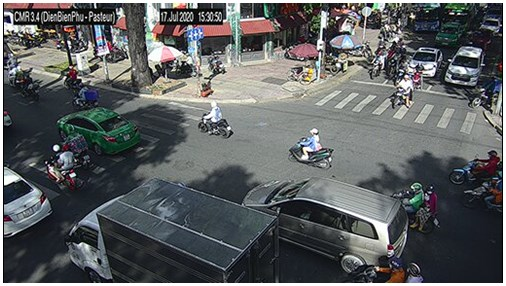xe_buyt: (443, 3, 481, 26), (413, 5, 442, 32)
xe_hoi: (242, 177, 408, 273), (57, 107, 141, 155), (4, 165, 53, 242), (444, 45, 485, 88), (411, 46, 444, 78), (436, 22, 463, 46), (472, 28, 493, 47), (481, 15, 501, 34)
xe_may: (389, 182, 440, 234), (463, 170, 503, 228), (448, 148, 503, 184), (288, 127, 334, 168), (345, 259, 424, 282), (45, 143, 80, 192), (62, 124, 92, 169), (198, 100, 231, 138), (469, 76, 495, 110), (70, 83, 99, 110), (392, 74, 413, 109), (19, 75, 41, 101), (367, 49, 384, 81), (61, 65, 82, 90), (413, 61, 425, 91), (389, 50, 401, 78), (395, 61, 407, 88)
xe_tai: (65, 177, 280, 284)
